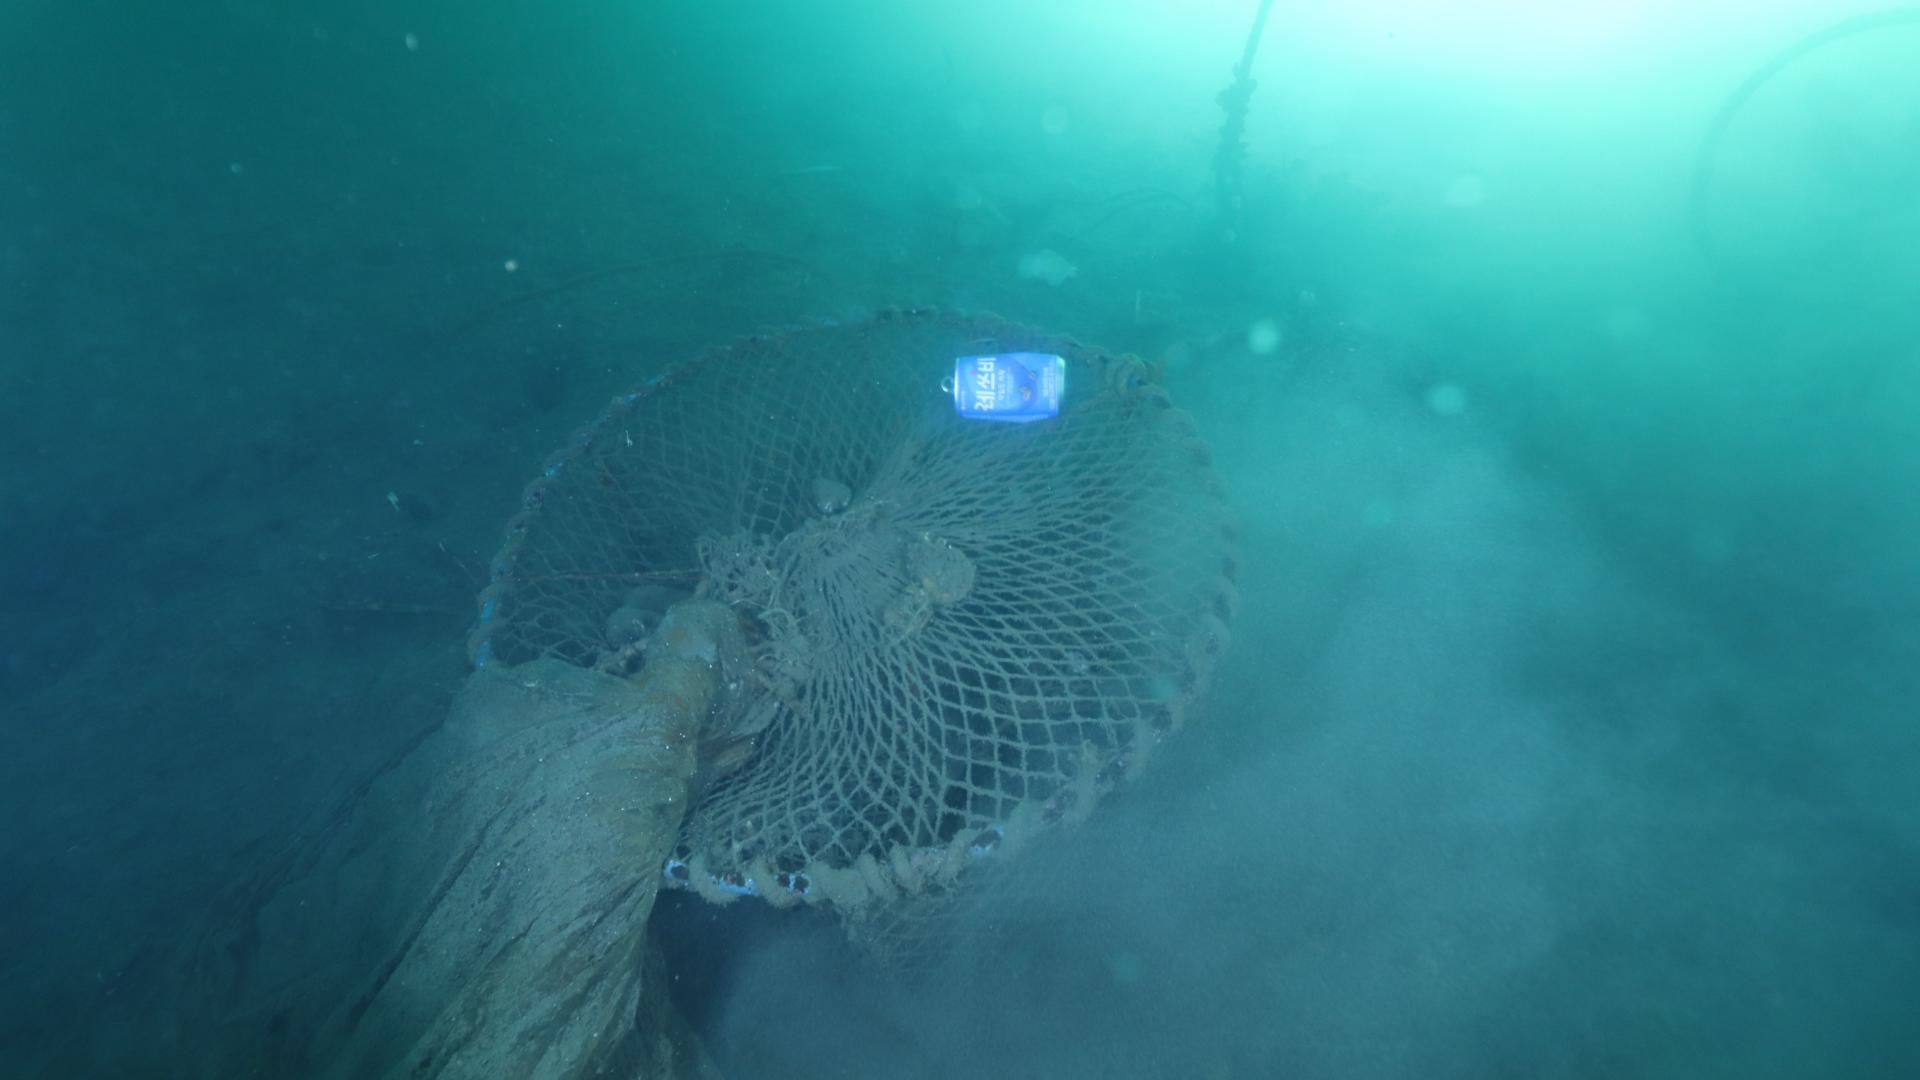circular fish trap: (462, 286, 1273, 957)
